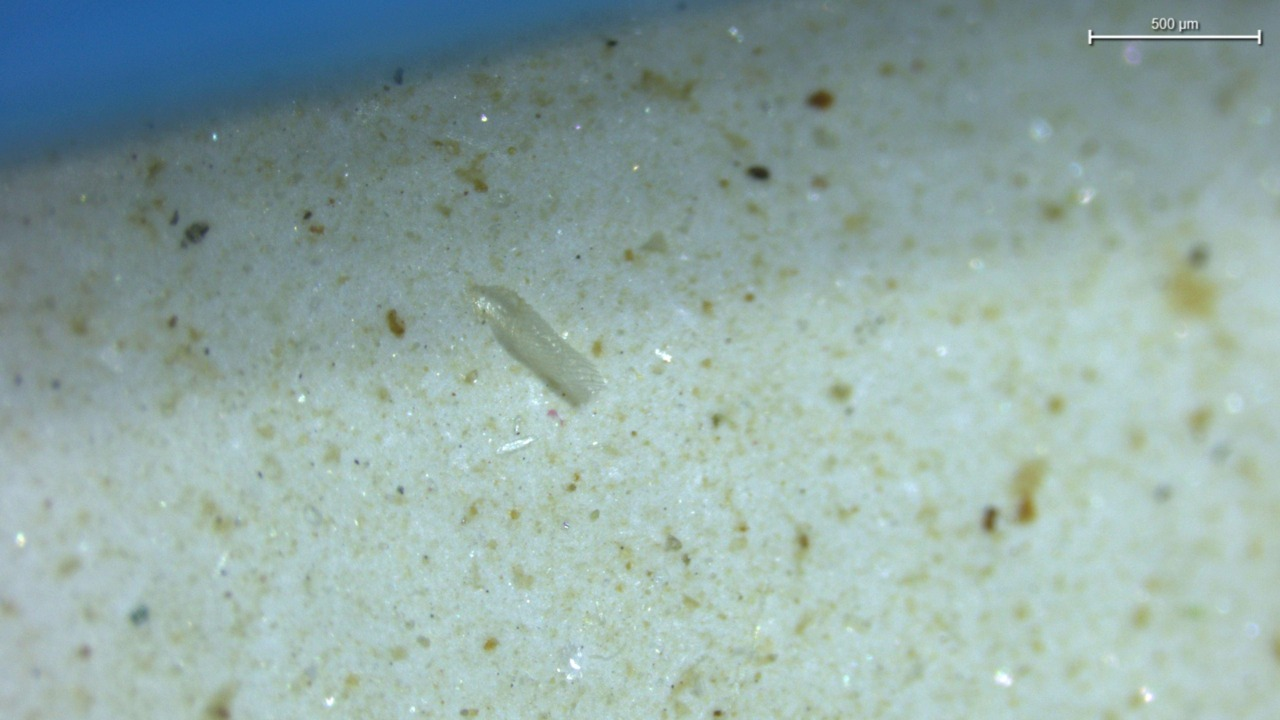microplastic_fragment: (470, 285, 604, 405)
